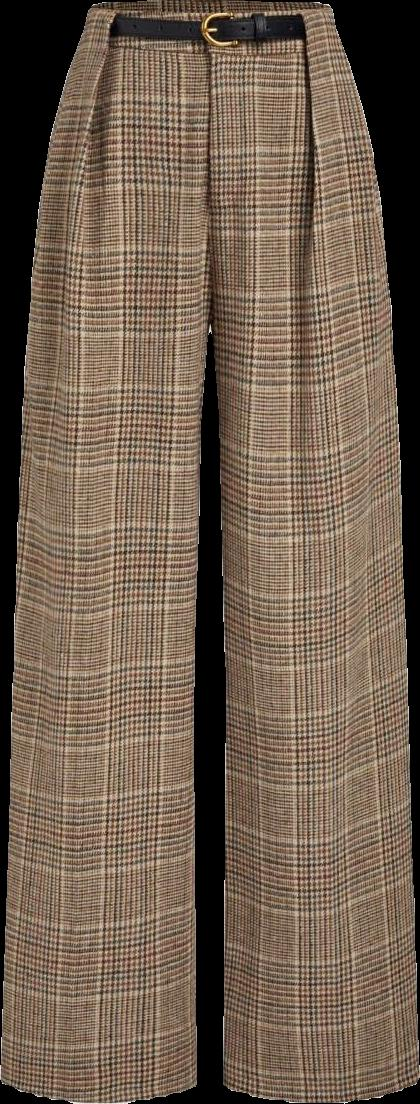Hemline: (218, 1065, 419, 1103), (0, 1070, 199, 1103)
Pantleg: (204, 0, 418, 1102), (1, 0, 211, 1103)
Waistline: (78, 26, 341, 56), (93, 2, 326, 29)
